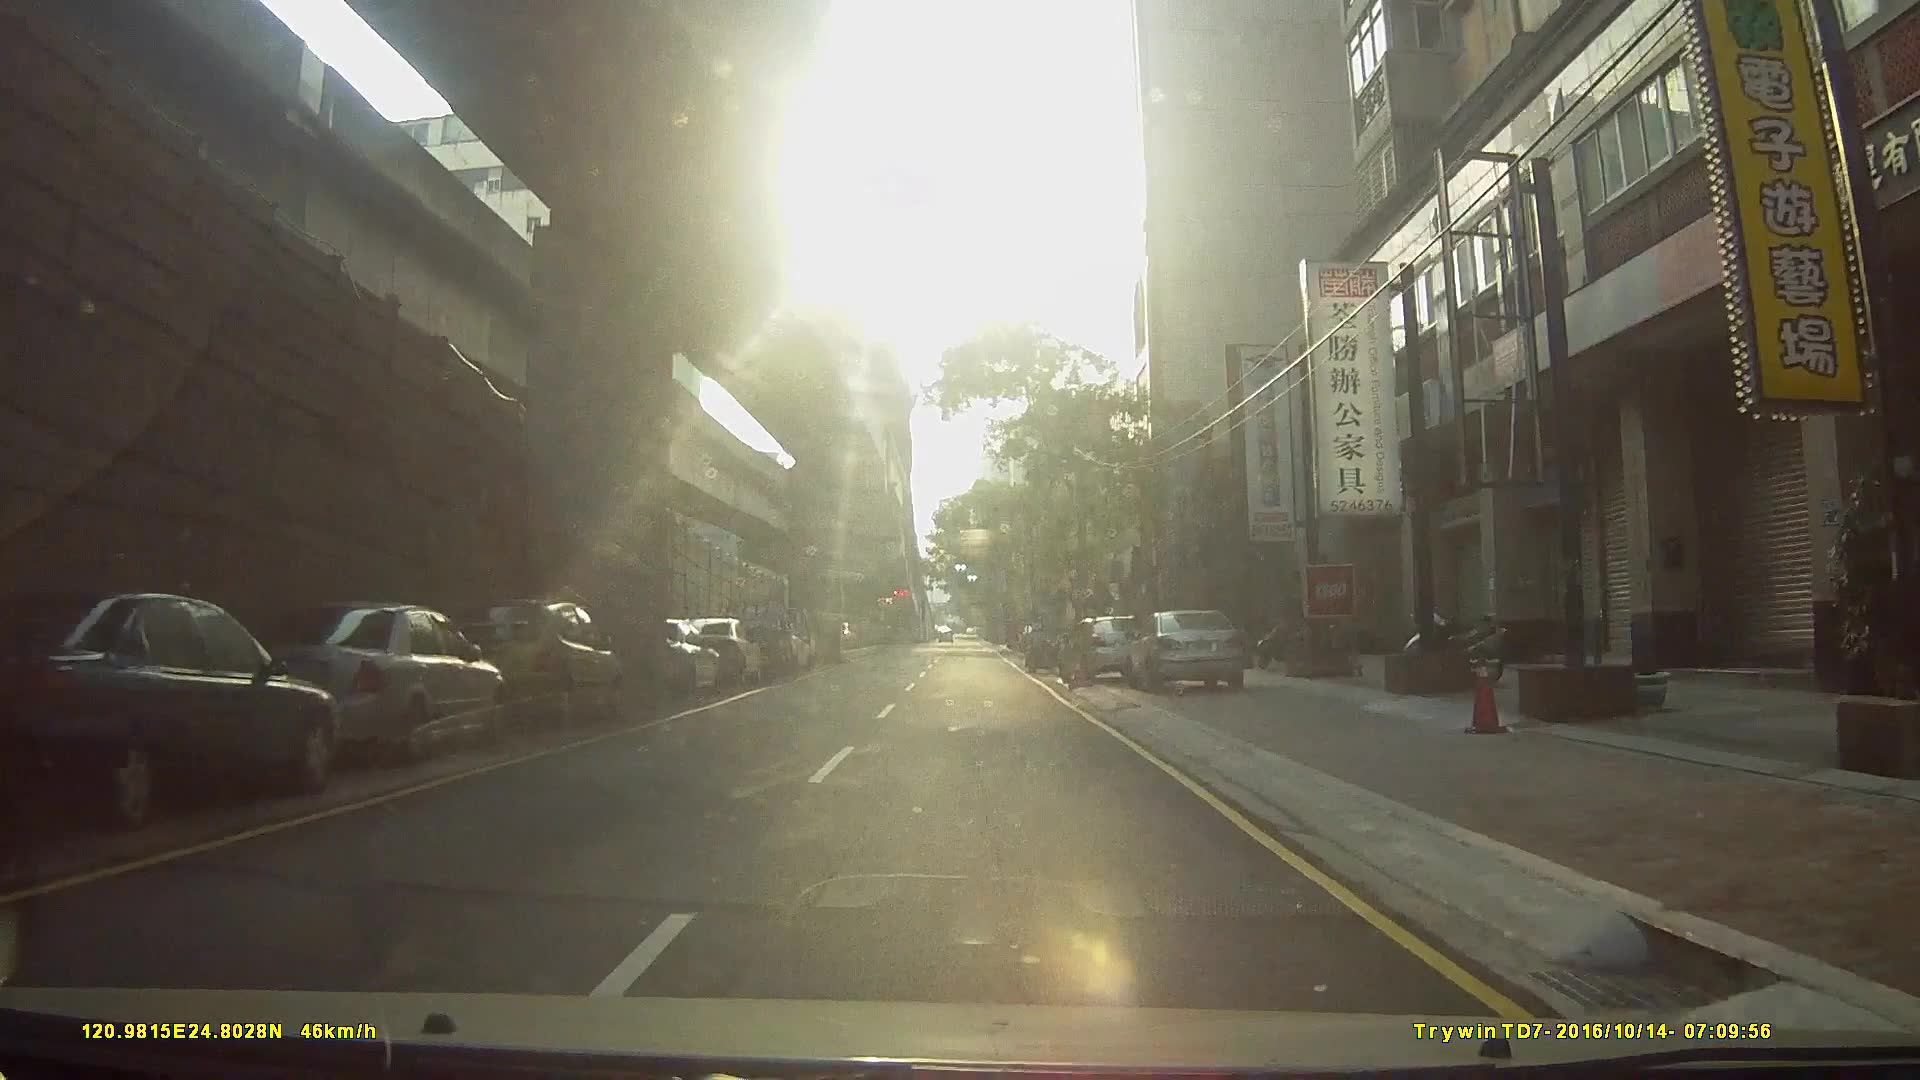rider: (1021, 623, 1059, 678)
vehicle: (1, 576, 350, 834), (244, 598, 499, 768), (427, 595, 618, 736), (1126, 606, 1249, 694), (629, 615, 720, 698), (1059, 614, 1151, 686), (719, 593, 794, 679), (673, 616, 760, 687)
